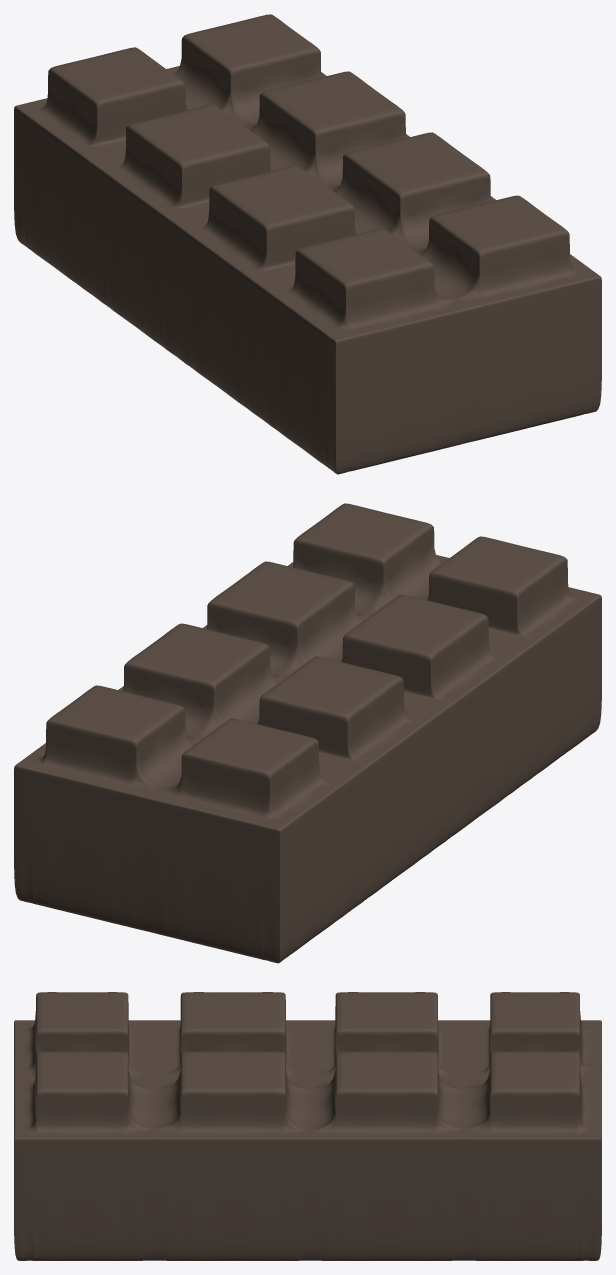
The model's file is barrachoco.fbx.
The picture shows the model from 3 angles, top to bottom: view 1: azimuth 30°, elevation 25°; view 2: azimuth 150°, elevation 25°; view 3: azimuth 270°, elevation 25°; orthographic projection. The views are drawn at different scales.
Parts seen in each view (by area): view 1: barrachocolate; view 2: barrachocolate; view 3: barrachocolate.
Boxes of the visible parts, x1,y1,x2,y2 form: barrachocolate: (14, 14, 601, 474); barrachocolate: (14, 503, 601, 963); barrachocolate: (14, 992, 601, 1260).
Bounding box in the file's own units: 3.67 × 2.35 × 7.67.
